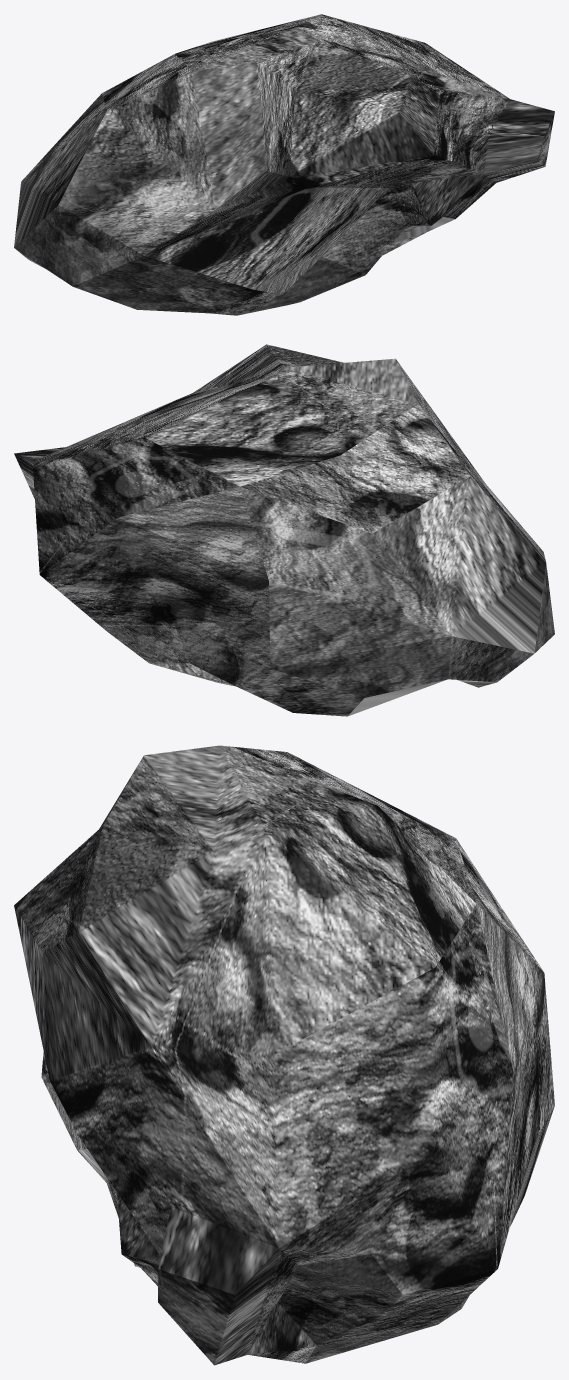
The model's file is met3.glb.
3 views of the same model, one above another, from view 1: azimuth 30°, elevation 25°; view 2: azimuth 150°, elevation 25°; view 3: azimuth 270°, elevation 25° (orthographic). The views are drawn at different scales.
Visible parts, largest first — view 1: Icosphere; view 2: Icosphere; view 3: Icosphere.
Part boxes in pixels (<box>): Icosphere: <box>14,14,554,315</box>; Icosphere: <box>14,344,554,716</box>; Icosphere: <box>14,745,554,1365</box>.
Bounding box in the file's own units: 4.01 × 2.08 × 2.09.
Materials: 1 (1 with a texture image).
